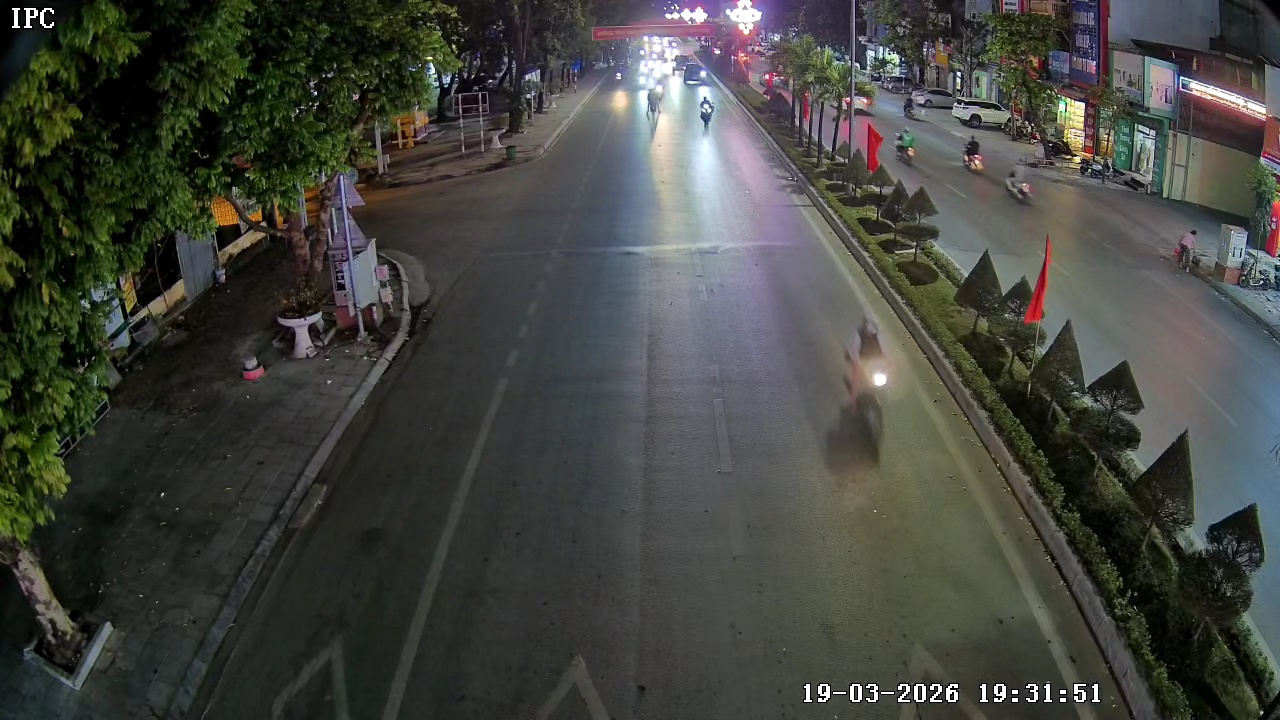motorbike: (843, 308, 905, 482), (700, 98, 719, 134)
